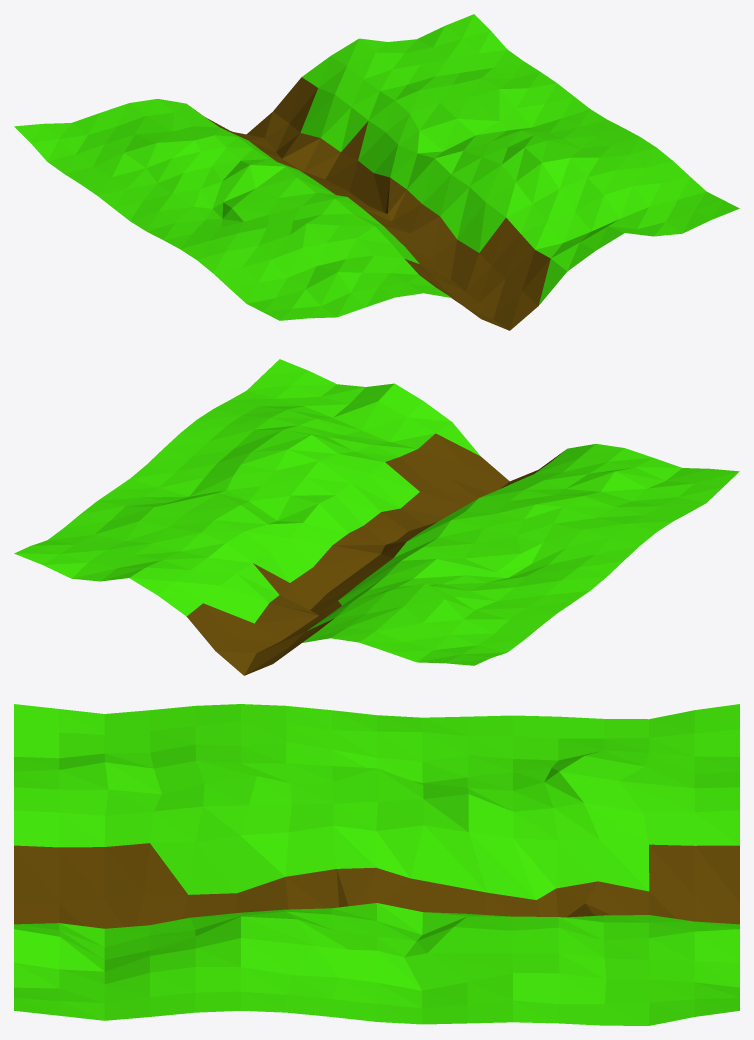
The model's file is oja_right_1.fbx.
3 renders of one model, top to bottom at view 1: azimuth 30°, elevation 25°; view 2: azimuth 150°, elevation 25°; view 3: azimuth 270°, elevation 25°, orthographic. The views are drawn at different scales.
Parts seen in each view (by area): view 1: oja_R_1; view 2: oja_R_1; view 3: oja_R_1.
Part boxes in pixels (x1,y1,x2,y2): oja_R_1: (14, 14, 739, 330); oja_R_1: (14, 359, 739, 675); oja_R_1: (14, 704, 739, 1025).
Bounding box in the file's own units: 2000 × 331 × 2000.
